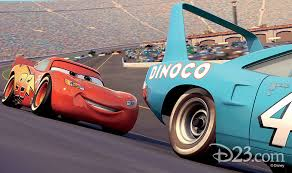mcqueen: (2, 52, 139, 137)
